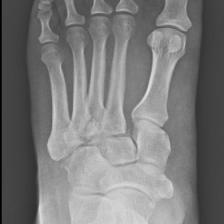fracture-dislocation: (24, 0, 208, 224)
